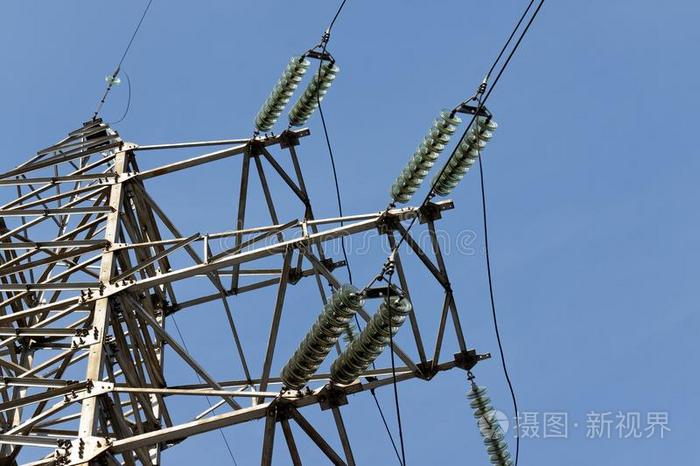insulator: (279, 284, 362, 386), (331, 296, 415, 378), (392, 101, 457, 202), (434, 112, 500, 199), (465, 385, 516, 466), (252, 57, 306, 129), (288, 61, 339, 127)
